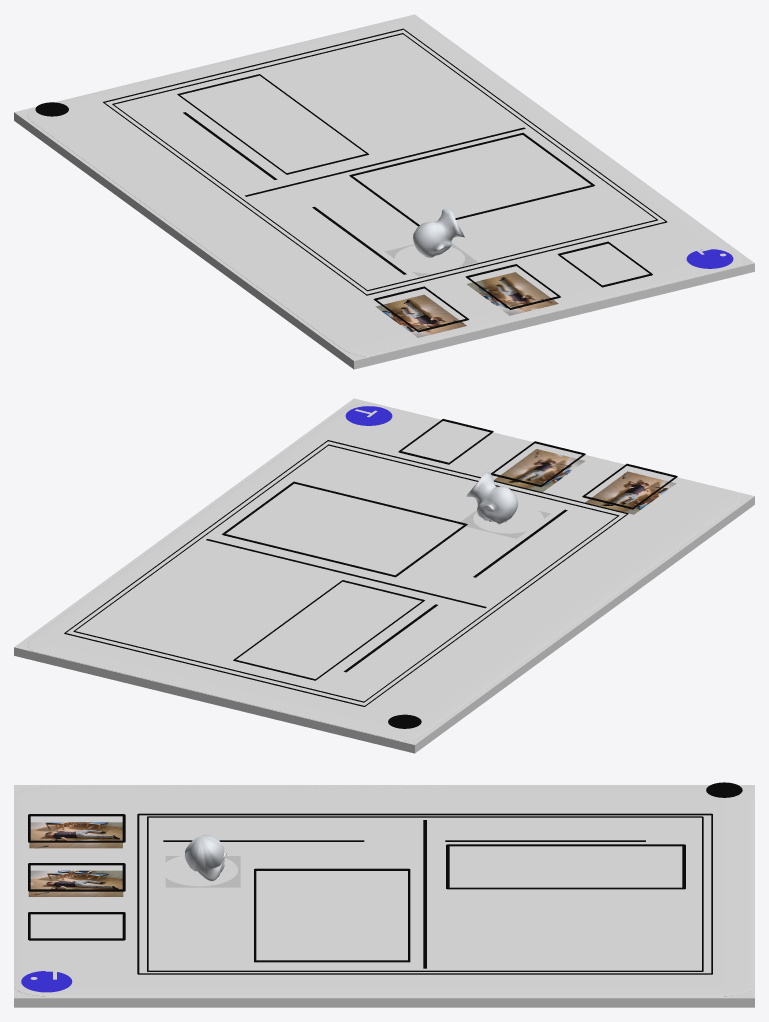
The model's file is boardUI_unity.fbx.
The picture shows the model from 3 angles, top to bottom: view 1: azimuth 30°, elevation 25°; view 2: azimuth 150°, elevation 25°; view 3: azimuth 270°, elevation 25°; orthographic projection. The views are drawn at different scales.
Visible parts, largest first — view 1: ui_backplate_solid, ui_backplate, Plane.001, Plane.003, suspect2_pic.002, suspect2_pic.003, side_panels, Markus, case_headline, Circle, Text.005, border (+4 smaller); view 2: ui_backplate_solid, ui_backplate, Plane.001, Plane.003, suspect2_pic.002, suspect2_pic.003, Markus, side_panels, case_headline, border, Text.005, Circle (+4 smaller); view 3: ui_backplate_solid, ui_backplate, Plane.001, Plane.003, suspect2_pic.002, suspect2_pic.003, side_panels, border.001, case_headline, border, Text.005, Markus (+10 smaller).
Boxes of the visible parts, bbox=[...] form: ui_backplate_solid: bbox=[27, 19, 741, 356]; ui_backplate: bbox=[14, 14, 754, 369]; Plane.001: bbox=[103, 28, 667, 295]; Plane.003: bbox=[112, 33, 657, 291]; suspect2_pic.002: bbox=[466, 272, 558, 315]; suspect2_pic.003: bbox=[375, 294, 466, 337]; side_panels: bbox=[373, 241, 652, 332]; Markus: bbox=[413, 209, 464, 257]; case_headline: bbox=[174, 200, 365, 334]; Circle: bbox=[394, 245, 464, 273]; Text.005: bbox=[223, 81, 343, 156]; border: bbox=[349, 133, 594, 226]; ui_backplate_solid: bbox=[27, 403, 741, 740]; ui_backplate: bbox=[14, 398, 754, 753]; Plane.001: bbox=[64, 440, 628, 706]; Plane.003: bbox=[73, 444, 619, 702]; suspect2_pic.002: bbox=[494, 449, 584, 492]; suspect2_pic.003: bbox=[585, 471, 676, 514]; Markus: bbox=[466, 471, 518, 524]; side_panels: bbox=[398, 419, 677, 509]; case_headline: bbox=[522, 496, 716, 629]; border: bbox=[222, 481, 467, 577]; Text.005: bbox=[245, 597, 379, 666]; Circle: bbox=[473, 504, 543, 533]; ui_backplate_solid: bbox=[15, 787, 753, 996]; ui_backplate: bbox=[14, 785, 754, 1007]; Plane.001: bbox=[137, 813, 712, 974]; Plane.003: bbox=[147, 816, 703, 971]; suspect2_pic.002: bbox=[28, 870, 123, 896]; suspect2_pic.003: bbox=[29, 822, 122, 848]; side_panels: bbox=[28, 814, 125, 940]; border.001: bbox=[446, 844, 685, 889]; case_headline: bbox=[56, 785, 447, 795]; border: bbox=[254, 868, 410, 962]; Text.005: bbox=[487, 860, 677, 887]; Markus: bbox=[184, 835, 227, 881].
Size of the model in its own units: 587 by 71.63 by 863.
